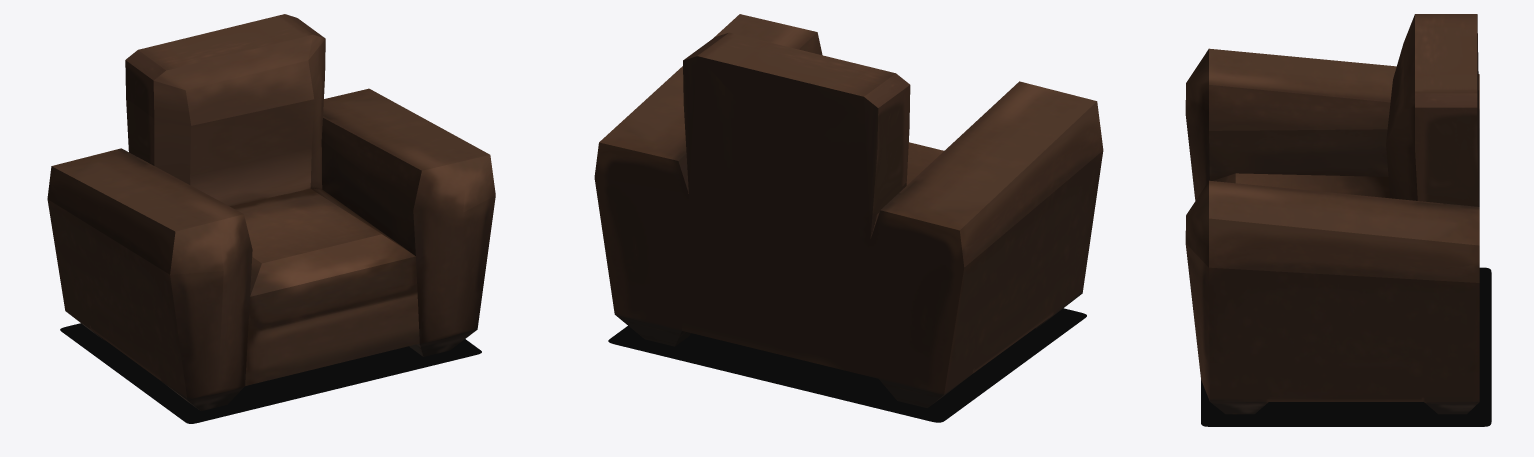
The model's file is chair.fbx.
3 views of the same model, side by side, from view 1: azimuth 30°, elevation 25°; view 2: azimuth 150°, elevation 25°; view 3: azimuth 270°, elevation 25° (orthographic). The views are drawn at different scales.
Visible parts, largest first — view 1: LB_chairA, shadow; view 2: LB_chairA, shadow; view 3: LB_chairA, shadow.
Part boxes in pixels (x1=…): LB_chairA: x1=47, y1=14, x2=495, y2=411; shadow: x1=60, y1=323, x2=481, y2=423; LB_chairA: x1=594, y1=14, x2=1103, y2=408; shadow: x1=608, y1=308, x2=1086, y2=422; LB_chairA: x1=1185, y1=14, x2=1479, y2=414; shadow: x1=1201, y1=267, x2=1491, y2=426.
Bounding box in the file's own units: 184 × 133 × 142.
Materials: 2 (2 with a texture image).
